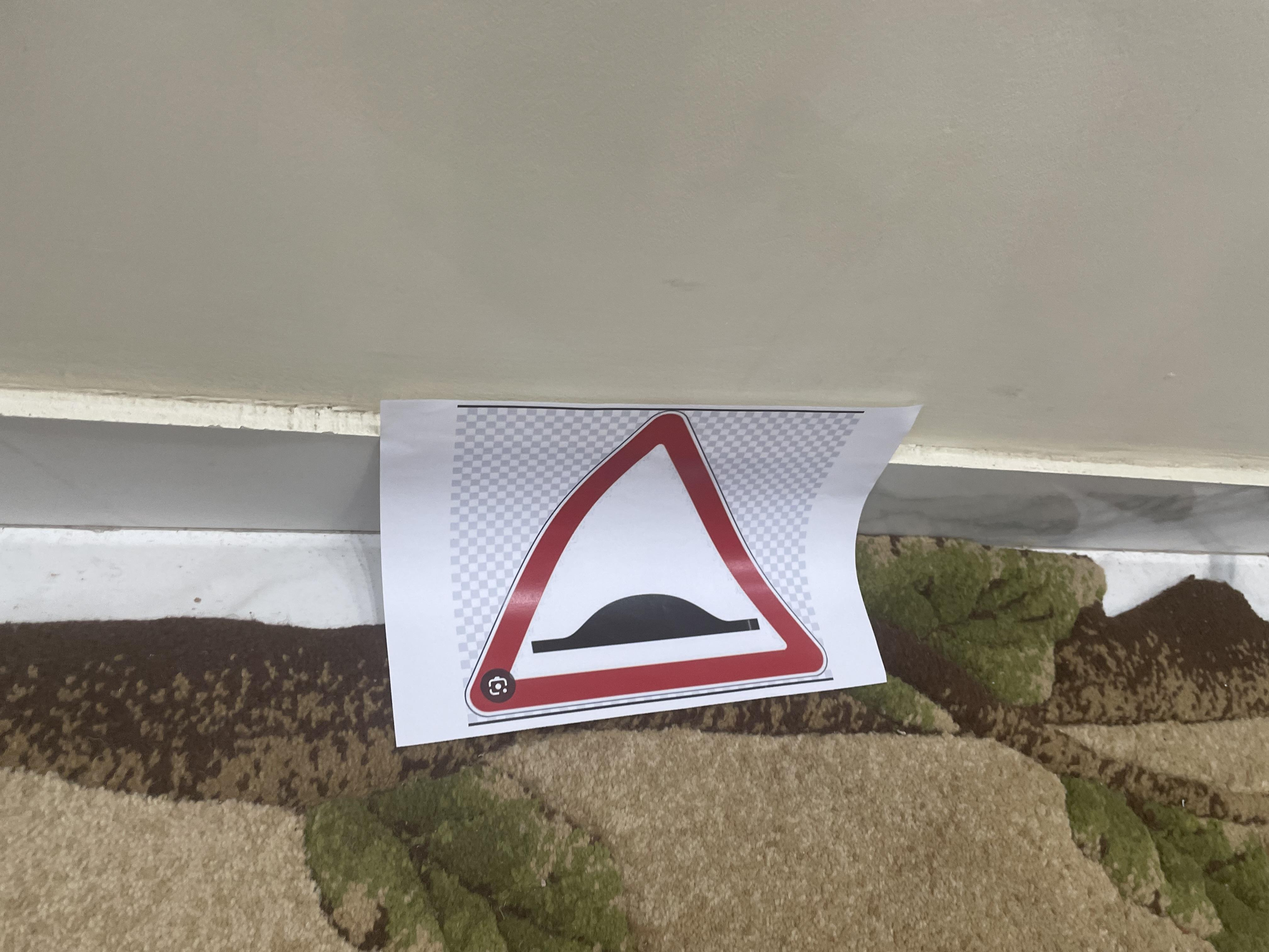Hump: (311, 350, 727, 621)
